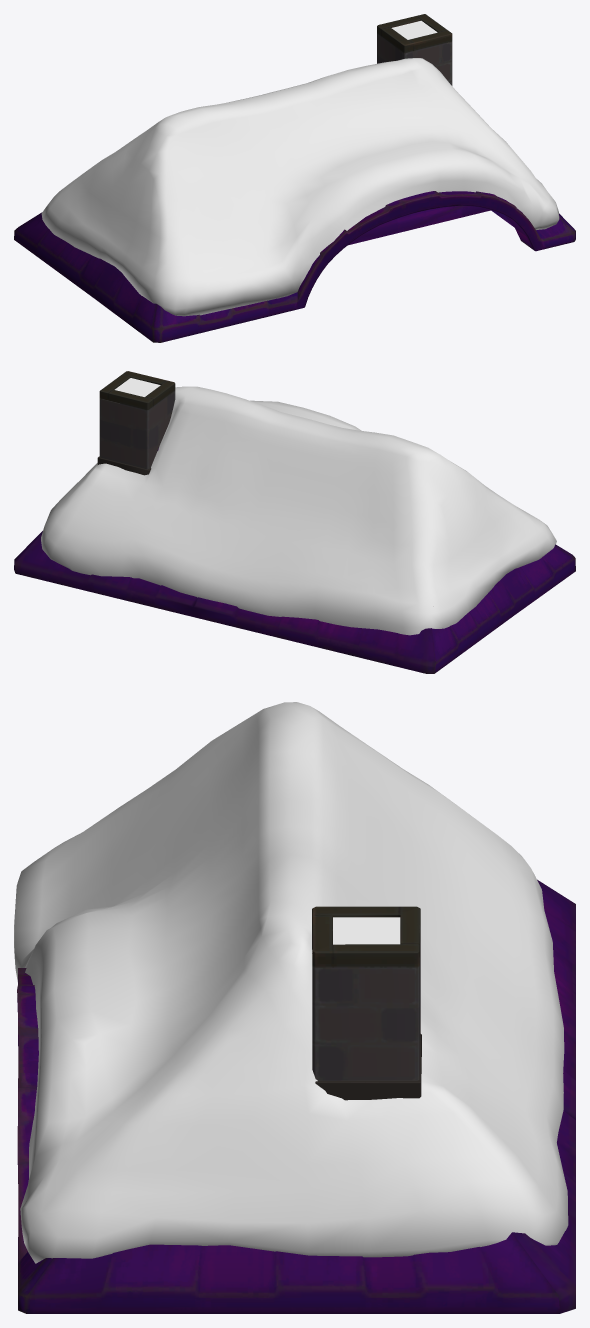
Rendered from roof_nb_woodpanel_g.glb.
The picture shows the model from 3 angles, top to bottom: view 1: azimuth 30°, elevation 25°; view 2: azimuth 150°, elevation 25°; view 3: azimuth 270°, elevation 25°; orthographic projection. The views are drawn at different scales.
Parts seen in each view (by area): view 1: Snow__mWinterSnow, Cim_low__mRoofA, cimnyhole__mChimneyhole; view 2: Snow__mWinterSnow, Cim_low__mRoofA, cimnyhole__mChimneyhole; view 3: Snow__mWinterSnow, Cim_low__mRoofA, cimnyhole__mChimneyhole.
Boxes of the visible parts, box(x1,y1,x2,y2) form: Snow__mWinterSnow: box(41, 58, 559, 316); Cim_low__mRoofA: box(14, 14, 575, 342); cimnyhole__mChimneyhole: box(391, 20, 437, 39); Snow__mWinterSnow: box(41, 386, 556, 635); Cim_low__mRoofA: box(14, 371, 575, 673); cimnyhole__mChimneyhole: box(114, 378, 160, 396); Snow__mWinterSnow: box(14, 702, 568, 1263); Cim_low__mRoofA: box(17, 879, 575, 1313); cimnyhole__mChimneyhole: box(333, 917, 400, 944).
Bounding box in the file's own units: 40.08 × 14.81 × 23.9.
Materials: 3 (1 with a texture image).
